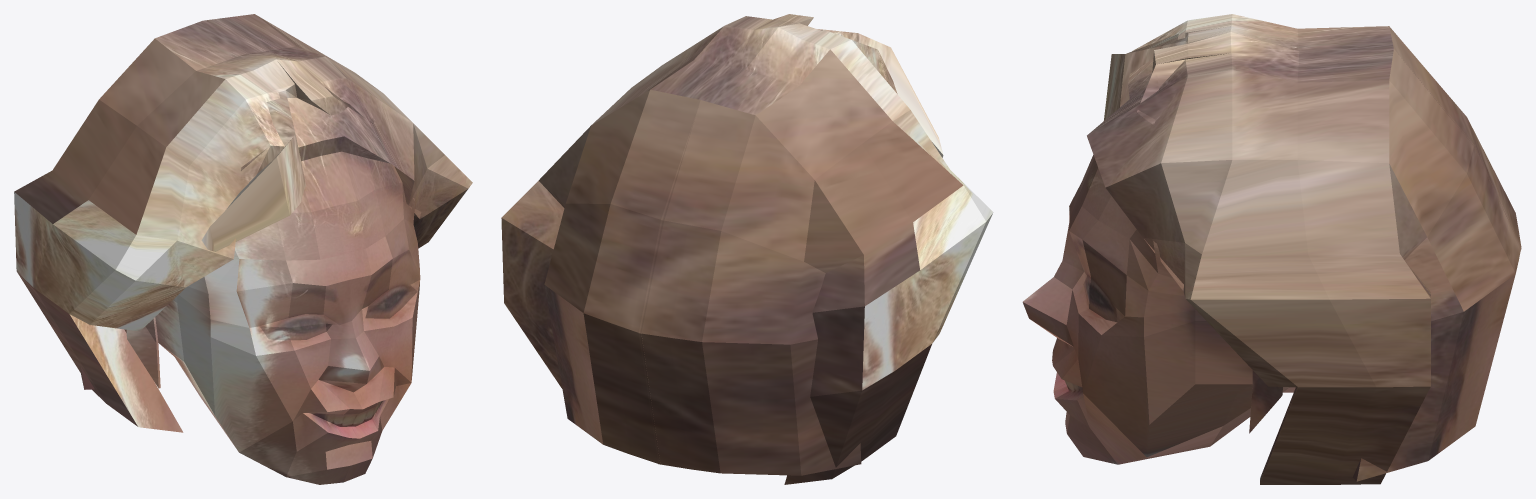
File: nicole.glb
3 renders of one model, left to right at view 1: azimuth 30°, elevation 25°; view 2: azimuth 150°, elevation 25°; view 3: azimuth 270°, elevation 25°, orthographic. The views are drawn at different scales.
Visible parts, largest first — view 1: Nicole; view 2: Nicole; view 3: Nicole.
Boxes of the visible parts, <box> form: Nicole: <box>14,14,472,484</box>; Nicole: <box>501,14,993,484</box>; Nicole: <box>1022,14,1521,484</box>.
Bounding box in the file's own units: 2.07 × 2.07 × 2.25.
Materials: 1 (1 with a texture image).
